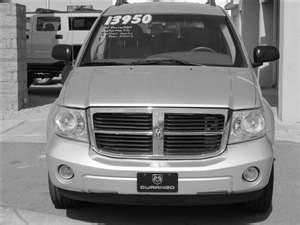car: (47, 2, 275, 219)
